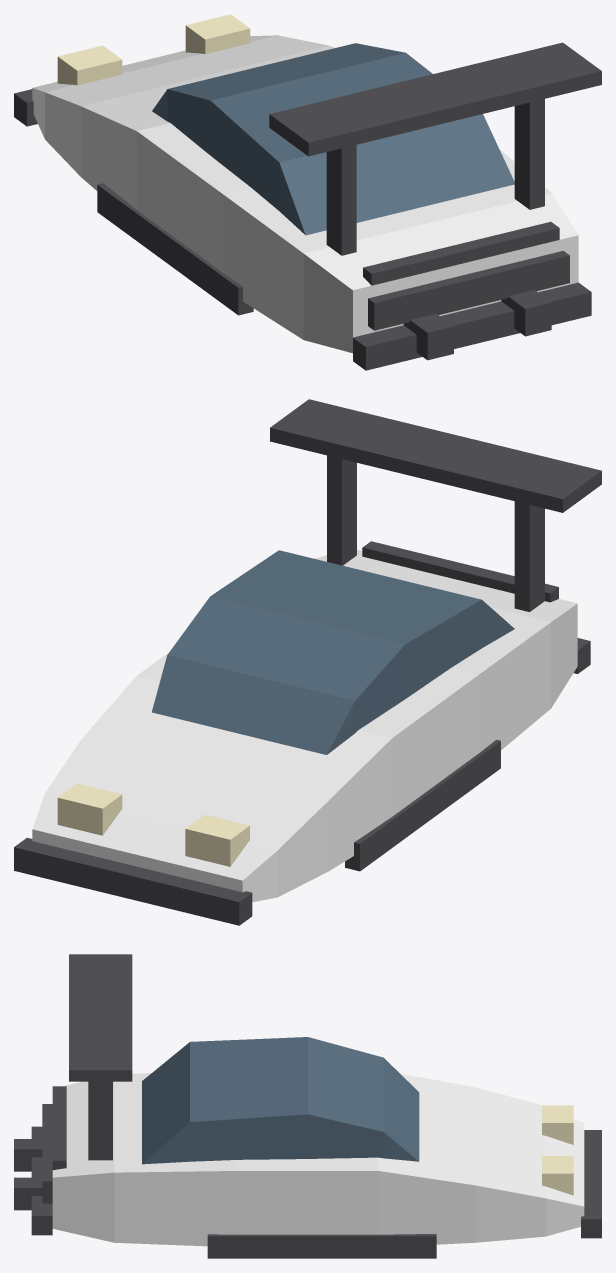
Rendered from F_Hachi_Body.fbx.
The picture shows the model from 3 angles, top to bottom: view 1: azimuth 30°, elevation 25°; view 2: azimuth 150°, elevation 25°; view 3: azimuth 270°, elevation 25°; orthographic projection. The views are drawn at different scales.
Visible parts, largest first — view 1: E_Hachi_Body.001, E_Hachi_Canopy.001, C_Cartoon_Wing.001, E_Hachi_TailPanel.001, E_Hachi_Bumper_R.001, E_Hachi_Skirt_L.001, E_Hachi_Spoiler.001, C_Cartoon_WingPost_L.001, C_Cartoon_WingPost_R.001, E_Hachi_Light_L.001, E_Hachi_Light_R.001, E_Hachi_Exhaust_R.001 (+2 smaller); view 2: E_Hachi_Body.001, E_Hachi_Canopy.001, C_Cartoon_Wing.001, E_Hachi_Bumper_F.001, E_Hachi_Skirt_L.001, C_Cartoon_WingPost_L.001, C_Cartoon_WingPost_R.001, E_Hachi_Spoiler.001, E_Hachi_Light_R.001, E_Hachi_Light_L.001; view 3: E_Hachi_Body.001, E_Hachi_Canopy.001, C_Cartoon_Wing.001, E_Hachi_Skirt_R.001, E_Hachi_Bumper_F.001, C_Cartoon_WingPost_R.001, E_Hachi_Spoiler.001, E_Hachi_Bumper_R.001, E_Hachi_Light_L.001, E_Hachi_Light_R.001, E_Hachi_TailPanel.001, E_Hachi_Exhaust_R.001 (+1 smaller).
Part boxes in pixels (left/top/right/bottom): E_Hachi_Body.001: left=32, top=35, right=578, bottom=353; E_Hachi_Canopy.001: left=152, top=43, right=514, bottom=235; C_Cartoon_Wing.001: left=269, top=42, right=601, bottom=156; E_Hachi_TailPanel.001: left=368, top=251, right=569, bottom=330; E_Hachi_Bumper_R.001: left=353, top=282, right=591, bottom=370; E_Hachi_Skirt_L.001: left=97, top=183, right=253, bottom=315; E_Hachi_Spoiler.001: left=363, top=221, right=559, bottom=285; C_Cartoon_WingPost_L.001: left=326, top=145, right=356, bottom=255; C_Cartoon_WingPost_R.001: left=514, top=99, right=544, bottom=209; E_Hachi_Light_L.001: left=57, top=45, right=122, bottom=85; E_Hachi_Light_R.001: left=185, top=14, right=250, bottom=54; E_Hachi_Exhaust_R.001: left=501, top=290, right=551, bottom=336; E_Hachi_Body.001: left=32, top=549, right=577, bottom=902; E_Hachi_Canopy.001: left=152, top=550, right=514, bottom=754; C_Cartoon_Wing.001: left=270, top=399, right=601, bottom=512; E_Hachi_Bumper_F.001: left=14, top=837, right=252, bottom=925; E_Hachi_Skirt_L.001: left=345, top=739, right=500, bottom=871; C_Cartoon_WingPost_L.001: left=514, top=501, right=544, bottom=611; C_Cartoon_WingPost_R.001: left=327, top=455, right=356, bottom=565; E_Hachi_Spoiler.001: left=362, top=541, right=558, bottom=602; E_Hachi_Light_R.001: left=57, top=783, right=122, bottom=835; E_Hachi_Light_L.001: left=185, top=814, right=249, bottom=866; E_Hachi_Body.001: left=52, top=1073, right=584, bottom=1246; E_Hachi_Canopy.001: left=142, top=1037, right=419, bottom=1164; C_Cartoon_Wing.001: left=69, top=954, right=132, bottom=1081; E_Hachi_Skirt_R.001: left=207, top=1234, right=436, bottom=1258; E_Hachi_Bumper_F.001: left=581, top=1130, right=601, bottom=1238; C_Cartoon_WingPost_R.001: left=88, top=1081, right=112, bottom=1160; E_Hachi_Spoiler.001: left=52, top=1086, right=66, bottom=1170; E_Hachi_Bumper_R.001: left=31, top=1126, right=52, bottom=1235; E_Hachi_Light_L.001: left=542, top=1105, right=573, bottom=1144; E_Hachi_Light_R.001: left=542, top=1156, right=573, bottom=1195; E_Hachi_TailPanel.001: left=42, top=1104, right=52, bottom=1203; E_Hachi_Exhaust_R.001: left=14, top=1177, right=42, bottom=1210.
Size of the model in its own units: 156 by 122 by 334.
